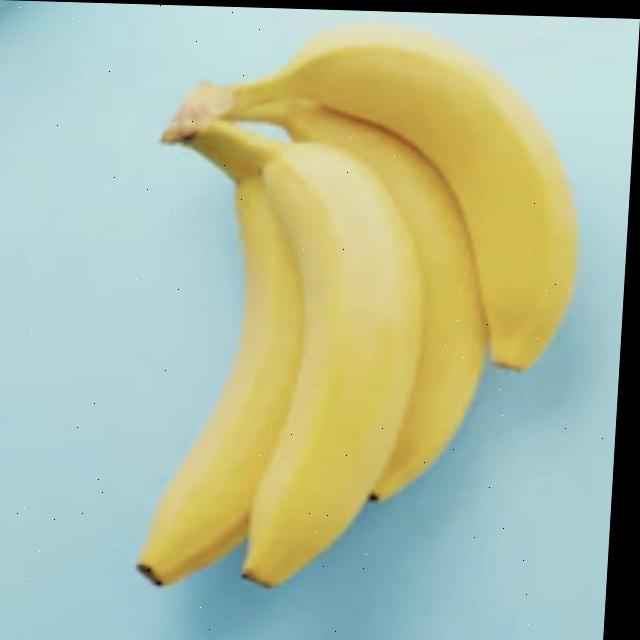banana: (74, 19, 586, 622)
